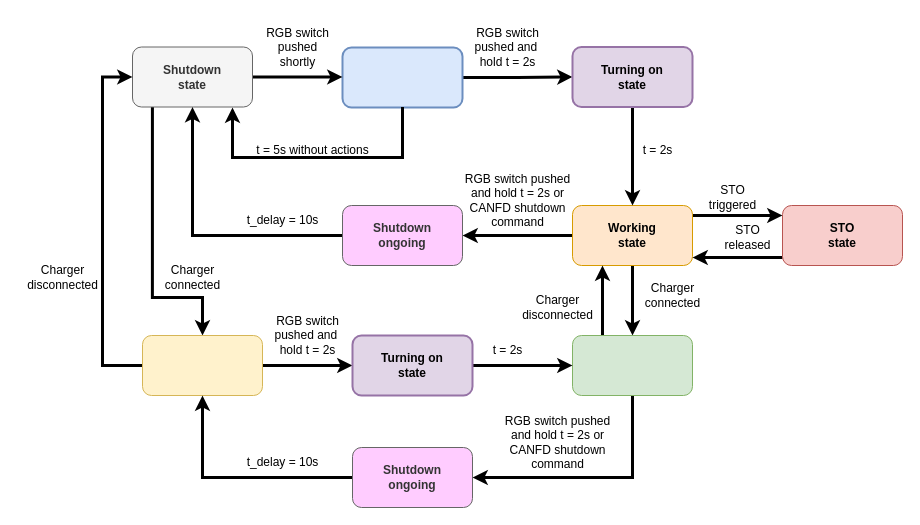
Image size: 920x525. Some labels were removed from this diagram. The centre of each missing label's shape, as x and y in pixels:
"Battery monitor state" goes at pixel 402 77.
"Charging IDLE state" goes at pixel 202 365.
"Charging working state" goes at pixel 632 365.
